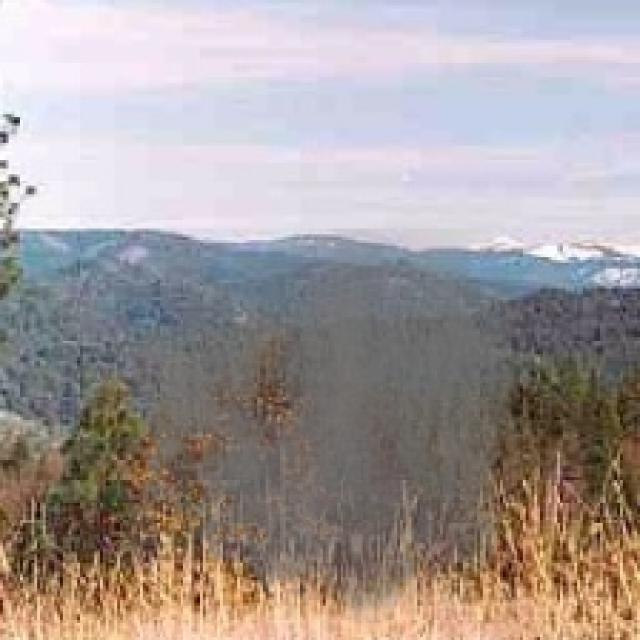Smoke: (117, 228, 529, 638)
